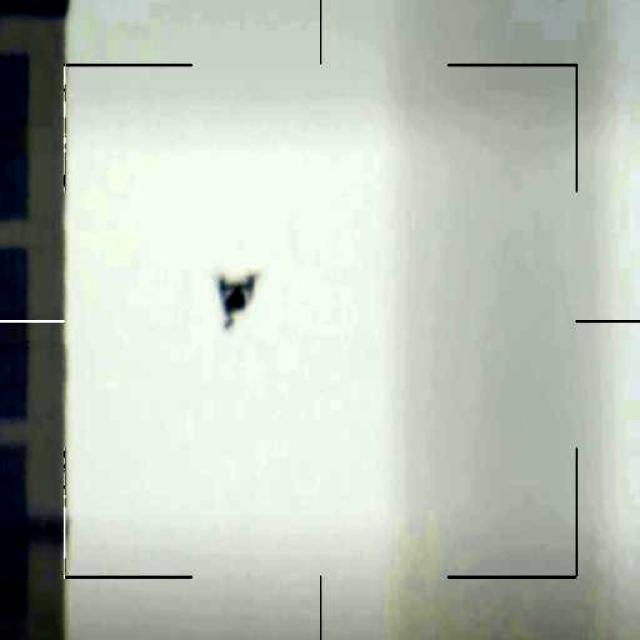bird: (211, 265, 262, 341)
